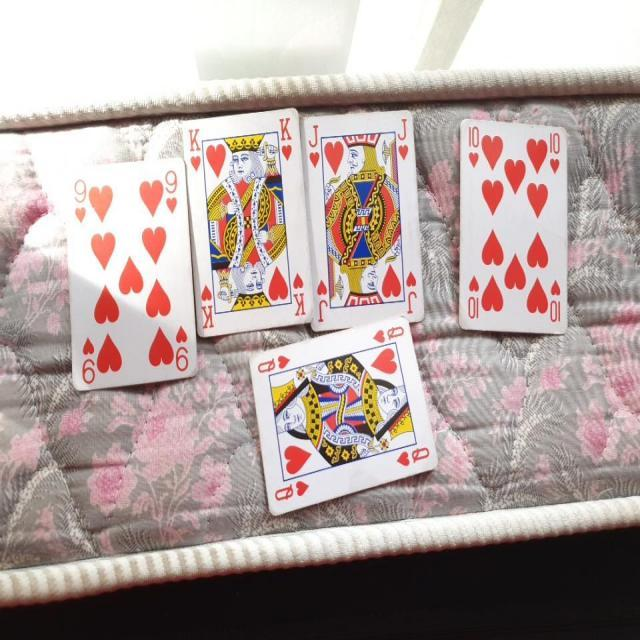10 of hearts: (453, 114, 576, 340)
9 of hearts: (58, 152, 198, 396)
jack of hearts: (301, 103, 428, 336)
king of hearts: (180, 104, 314, 340)
queen of hearts: (247, 316, 441, 522)
